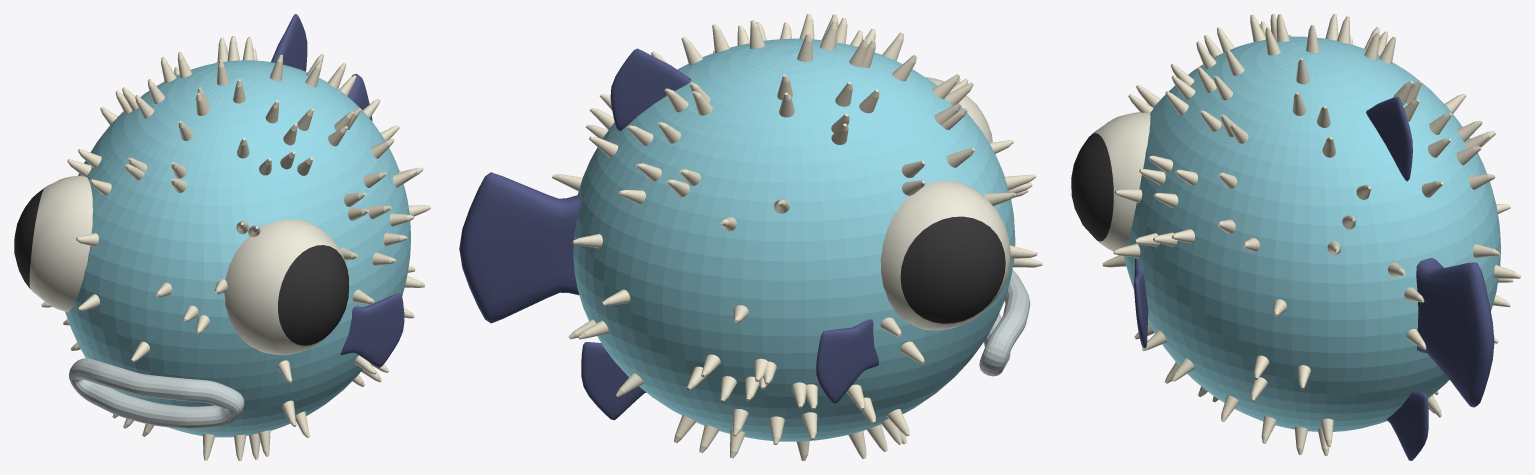
3 views of the same model, side by side, from view 1: azimuth 30°, elevation 25°; view 2: azimuth 150°, elevation 25°; view 3: azimuth 270°, elevation 25° (orthographic). The views are drawn at different scales.
Visible parts, largest first — view 1: O (UW); view 2: O (UW); view 3: O (UW).
Part boxes in pixels (x1=…): O (UW): x1=14, y1=14, x2=430, y2=460; O (UW): x1=459, y1=14, x2=1042, y2=460; O (UW): x1=1071, y1=14, x2=1520, y2=460.
Bounding box in the file's own units: 2.01 × 1.74 × 1.76.
